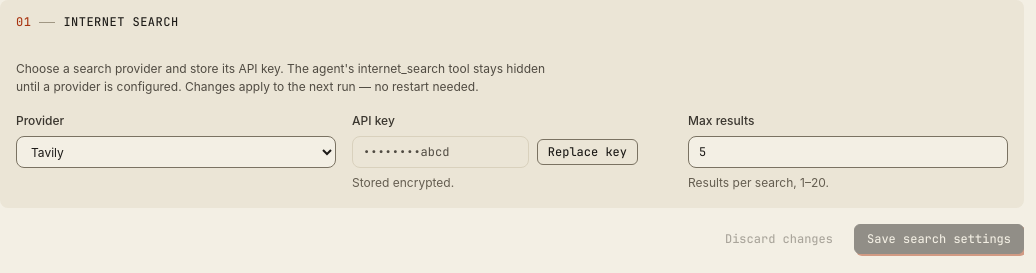
Test: SearchSettings › replaces a stored key from a blank field so the mask is never resubmitted
Click the button "Replace key" at point(587, 152), box [537,139,638,165]
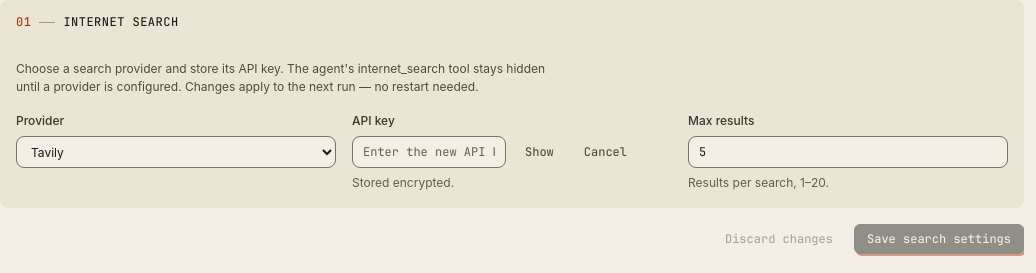
Check: the password field labelled "API key" is empty
Type "tvly-dev-NEWKEYwxyz" into the password field labelled "API key" at point(429, 152), box [352,136,506,168]
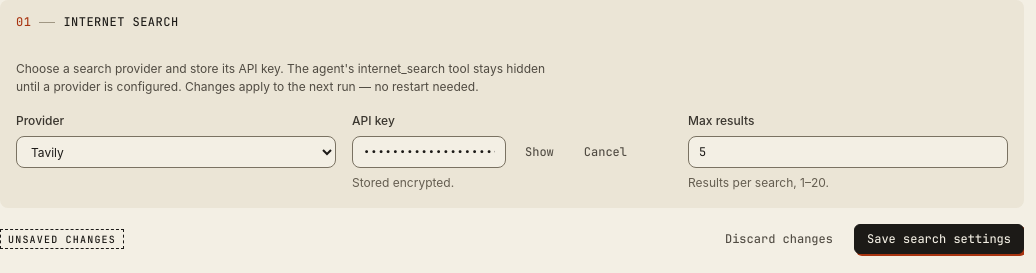
Click the button "Save search settings" at point(939, 239), box [854,224,1024,254]
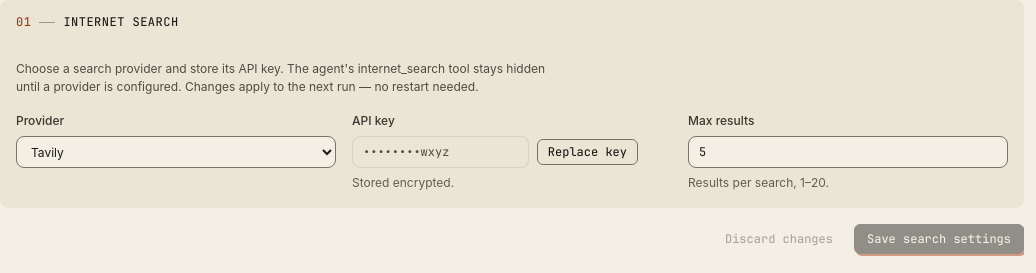
Check: the text with test id "key-mask" reads "••••••••wxyz", box [363,144,449,160]
